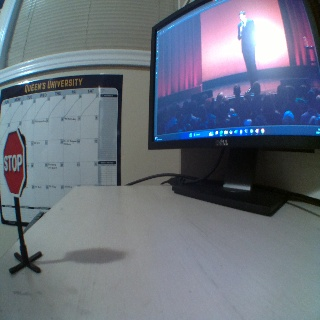sign_stop: (4, 132, 25, 196)
